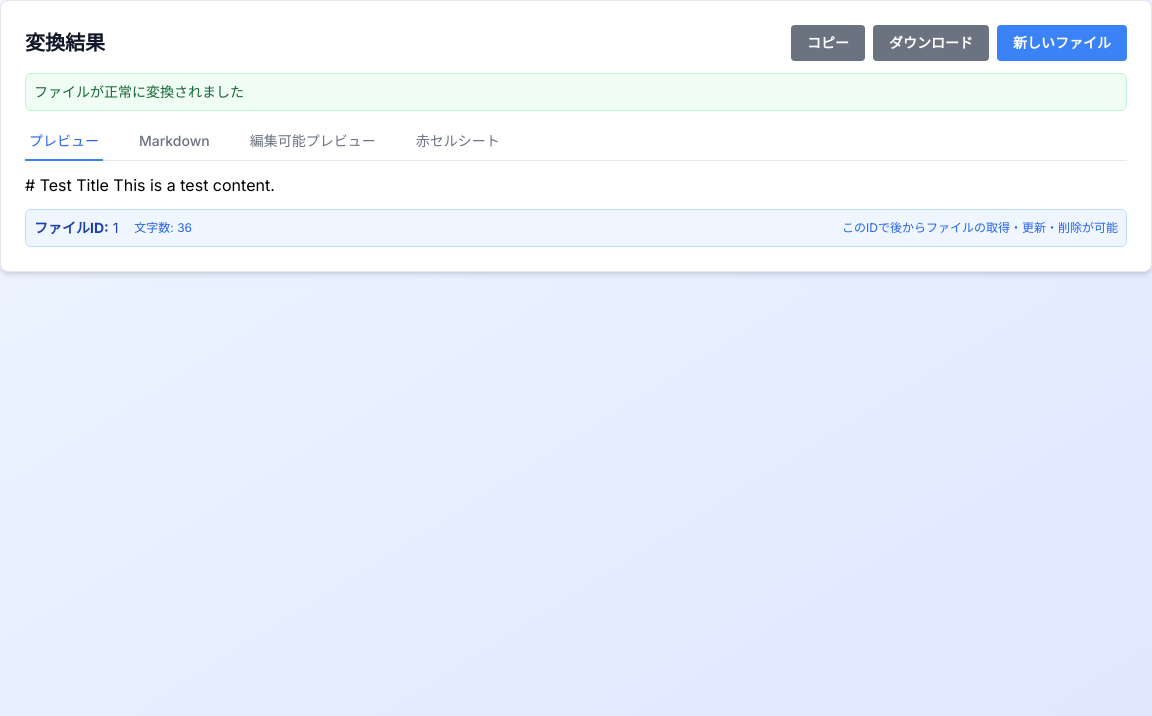
MarkdownDisplay › 赤セルシートコントロールボタンをクリックするとコントロールパネルが表示される
This screenshot has width=1152, height=716.
Note: 赤セルシートタブをクリック
Click the button "赤セルシート".
click(458, 142)  # box [412,123,504,161]
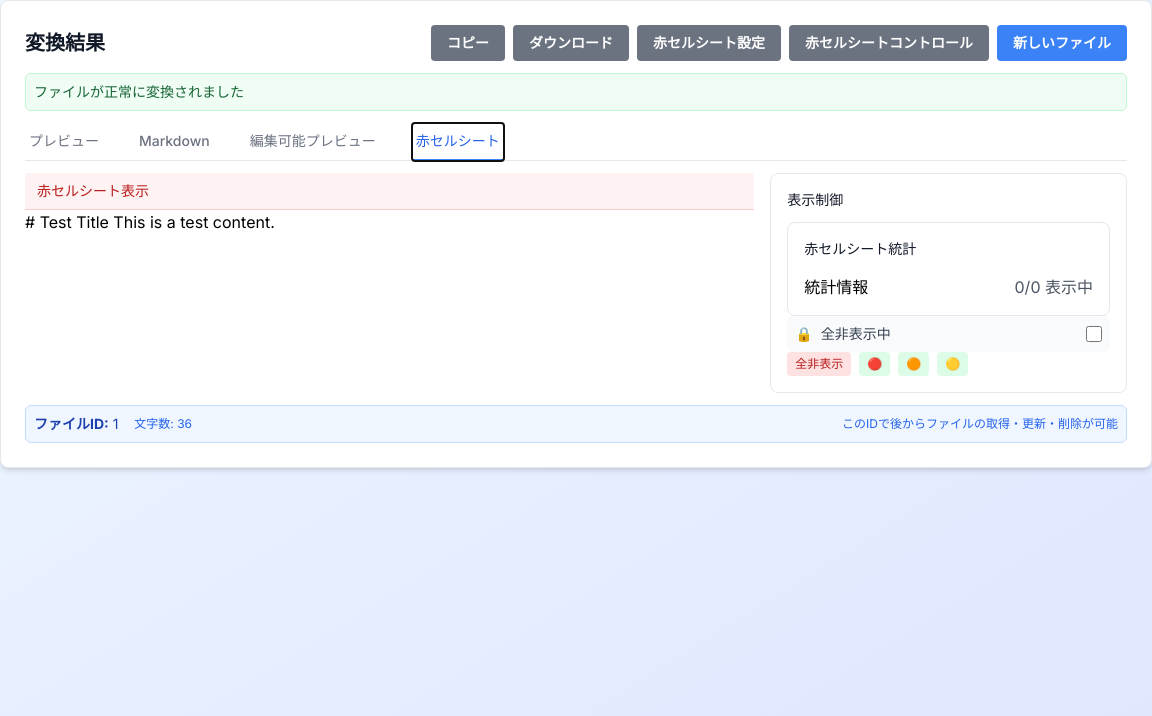
Note: コントロールボタンをクリック
Click the button "赤セルシートコントロール".
click(889, 43)  # box [789,25,989,61]
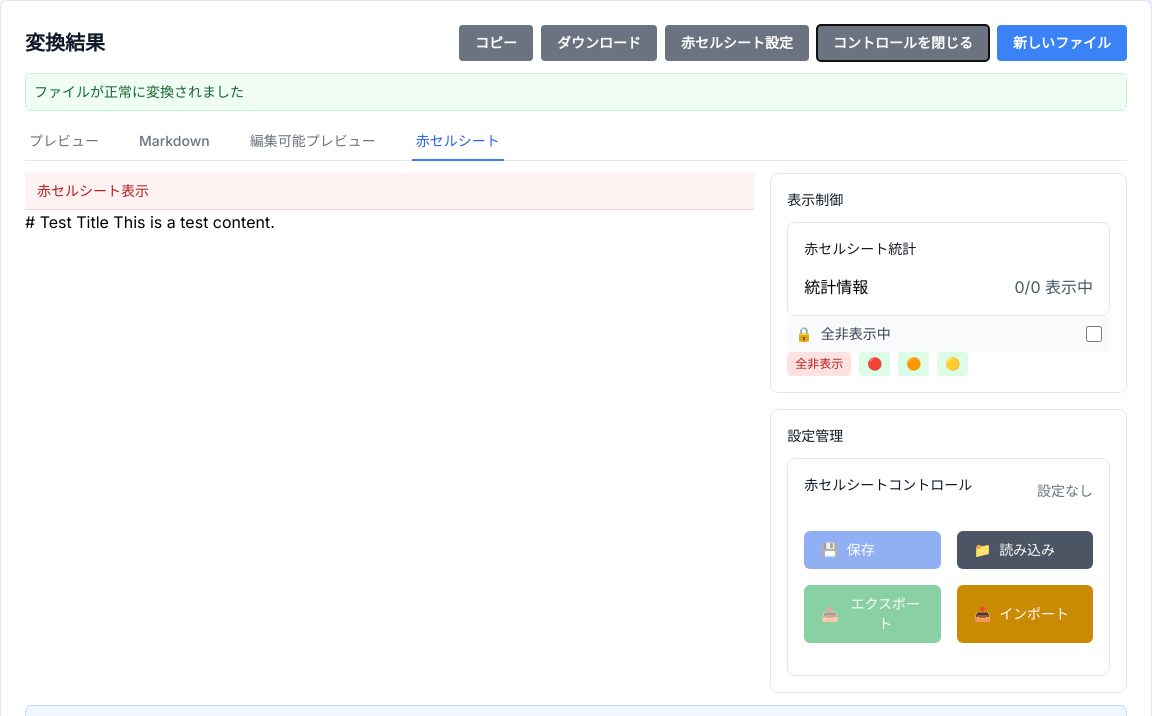
Check: the heading "設定管理" is shown, box [787,427,843,444]
Check: the button "コントロールを閉じる" is shown, box [817,25,989,61]
